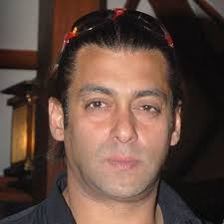no_mask: (71, 49, 170, 195)
